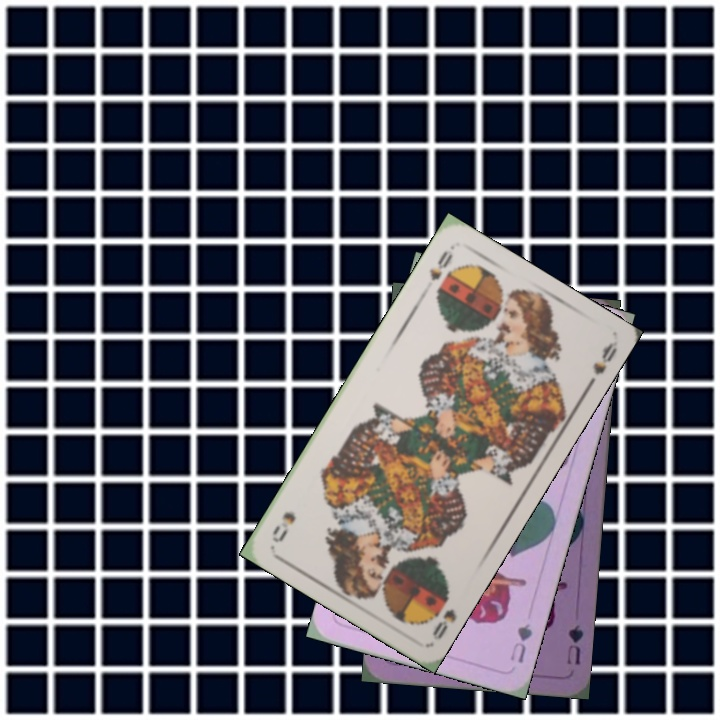GU: (506, 619, 535, 666), (563, 621, 586, 667)
SO: (426, 586, 459, 643), (424, 246, 455, 284)
